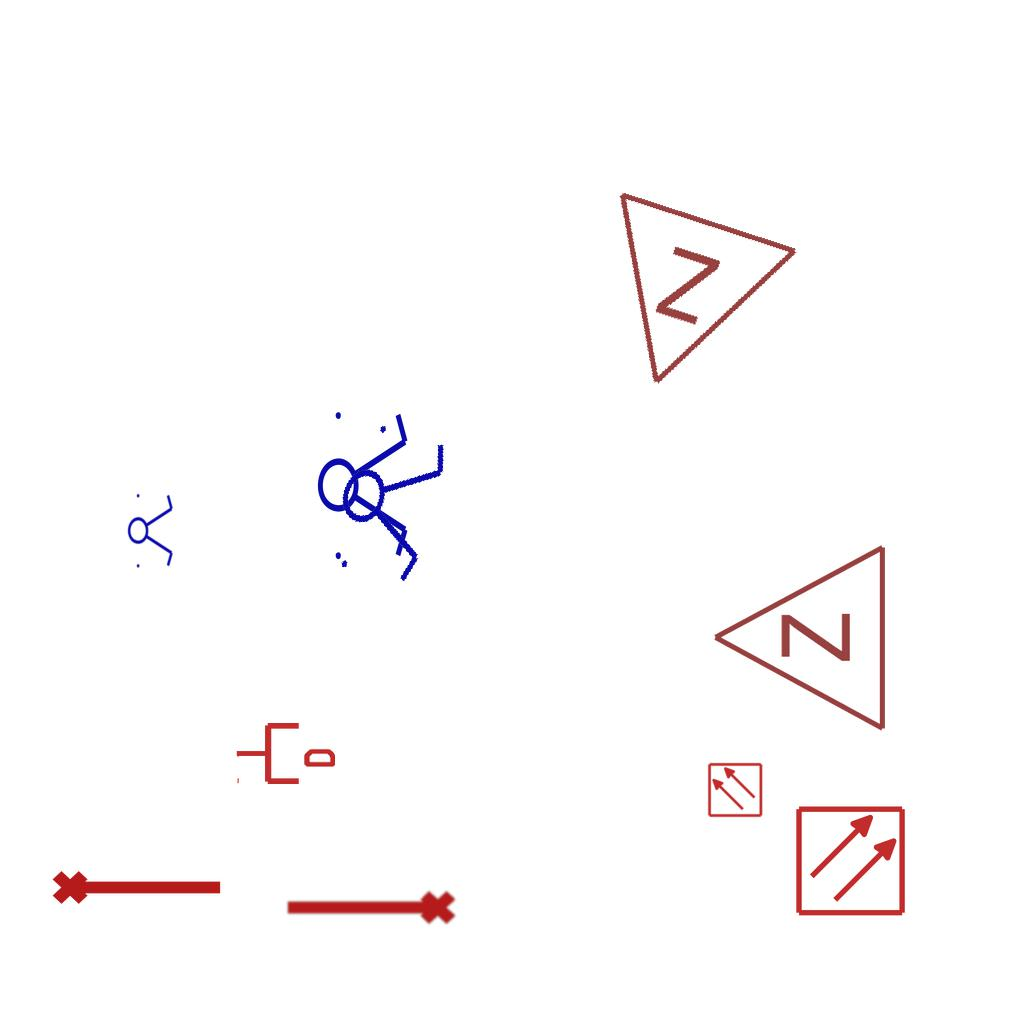ASR_Ansaugoeffnung: (282, 887, 458, 933), (50, 862, 226, 908)
Datenanschluss_einfach: (235, 719, 335, 788)
RMO_Rauchmelder_optischer: (794, 804, 907, 917), (707, 762, 763, 818)
Serienschalter: (319, 408, 459, 596), (316, 400, 412, 568), (127, 488, 175, 572)
Zimmersignalleuchte: (560, 176, 810, 428), (700, 542, 900, 738)
